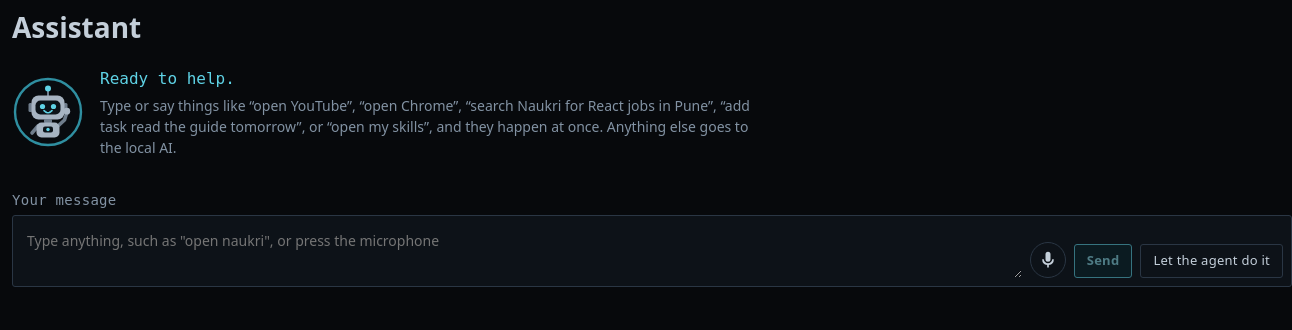
Test case: the microphone in the chat bar › says when nothing was heard
Click the button named "Speak a message or command": (1048, 260) [1030,242,1066,278]
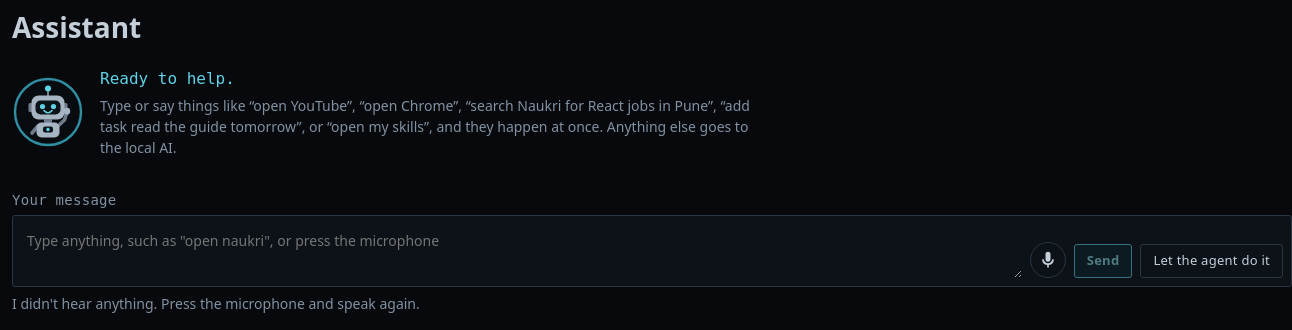
Check: the text "I didn't hear anything. Press the microphone and speak again." is shown, box [12,294,420,312]
